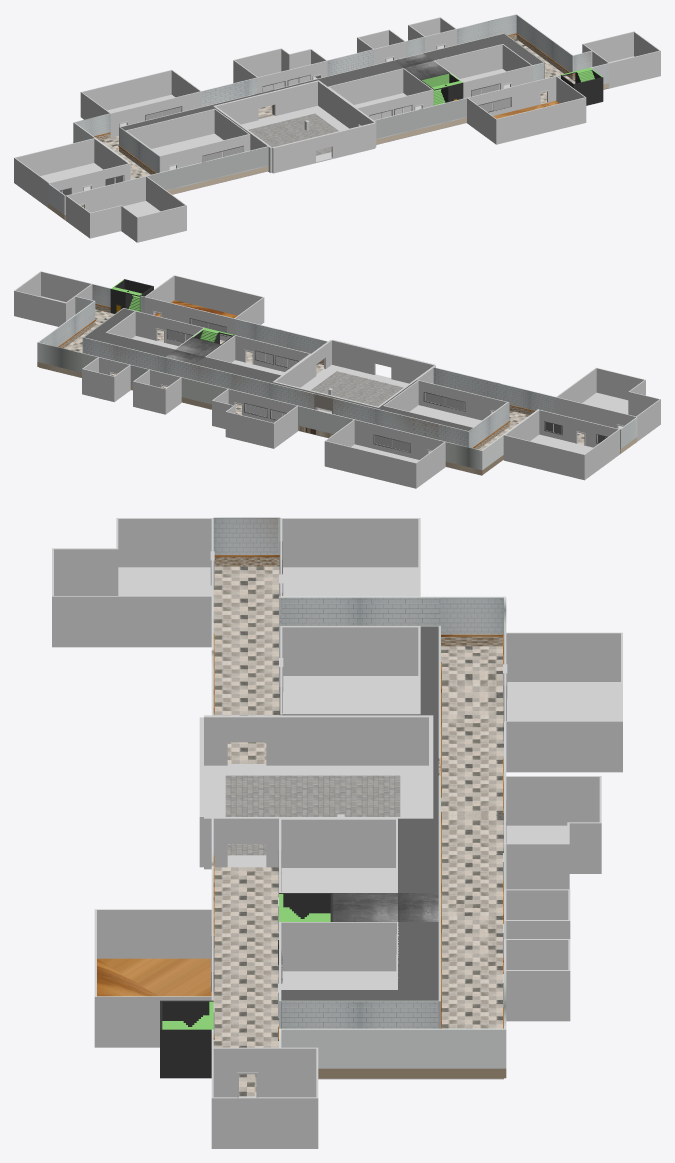
Rendered from modelo escuela textura v2.fbx.
3 views of the same model, one above another, from view 1: azimuth 30°, elevation 25°; view 2: azimuth 150°, elevation 25°; view 3: azimuth 270°, elevation 25° (orthographic). The views are drawn at different scales.
Visible parts, largest first — view 1: patio central, Textura Superior Pared pasillo derecho, salon.3, sALON 10, Textura Superior Pared pasillo derecho .001, Ventana.006, sALON 10.002, sALON 10.001, Techo, sALON 10.003, Marco.011, salon.7 (+8 smaller); view 2: Textura Superior Pared pasillo derecho, Textura Superior Pared pasillo derecho .001, patio central, sALON 10.002, Ventana.006, salon.3, sALON 10, salon.009, Techo, salon.008, sALON 10.001, salon.7 (+8 smaller); view 3: patio central, salon.3, sALON 10.002, Textura Superior Pared pasillo derecho, sALON 10, pasillo derecho1, Techo, sALON 10.001, pasillo derecho, Textura Superior Pared pasillo derecho .001, Ventana.006, pasillo derecho izquierdo (+10 smaller).
Part boxes in pixels (x1=…): patio central: x1=213, y1=80, x2=376, y2=173; Textura Superior Pared pasillo derecho: x1=248, y1=14, x2=608, y2=139; salon.3: x1=65, y1=176, x2=186, y2=242; sALON 10: x1=467, y1=76, x2=586, y2=144; Textura Superior Pared pasillo derecho .001: x1=48, y1=80, x2=268, y2=214; Ventana.006: x1=14, y1=138, x2=129, y2=207; sALON 10.002: x1=80, y1=70, x2=201, y2=137; sALON 10.001: x1=125, y1=108, x2=250, y2=172; Techo: x1=121, y1=34, x2=542, y2=133; sALON 10.003: x1=433, y1=44, x2=532, y2=98; Marco.011: x1=328, y1=68, x2=433, y2=125; salon.7: x1=582, y1=31, x2=660, y2=88; Textura Superior Pared pasillo derecho: x1=37, y1=284, x2=327, y2=427; Textura Superior Pared pasillo derecho .001: x1=307, y1=367, x2=637, y2=470; patio central: x1=273, y1=339, x2=435, y2=413; sALON 10.002: x1=324, y1=419, x2=445, y2=488; Ventana.006: x1=503, y1=409, x2=619, y2=480; salon.3: x1=555, y1=367, x2=660, y2=441; sALON 10: x1=144, y1=275, x2=264, y2=340; salon.009: x1=82, y1=357, x2=182, y2=414; Techo: x1=84, y1=308, x2=472, y2=430; salon.008: x1=212, y1=388, x2=298, y2=448; sALON 10.001: x1=383, y1=380, x2=507, y2=430; salon.7: x1=14, y1=271, x2=92, y2=326; patio central: x1=199, y1=715, x2=433, y2=869; salon.3: x1=52, y1=518, x2=214, y2=647; sALON 10.002: x1=503, y1=632, x2=622, y2=772; Textura Superior Pared pasillo derecho: x1=211, y1=767, x2=506, y2=1068; sALON 10: x1=94, y1=909, x2=214, y2=1047; pasillo derecho1: x1=360, y1=815, x2=503, y2=1079; Techo: x1=281, y1=626, x2=438, y2=1000; sALON 10.001: x1=279, y1=626, x2=420, y2=715; pasillo derecho: x1=213, y1=867, x2=359, y2=1096; Textura Superior Pared pasillo derecho .001: x1=211, y1=517, x2=506, y2=803; Ventana.006: x1=279, y1=518, x2=420, y2=596; pasillo derecho izquierdo: x1=213, y1=566, x2=279, y2=763.
Bounding box in the file's own units: 12838 × 525 × 5330.
Materials: 14 (9 with a texture image).
